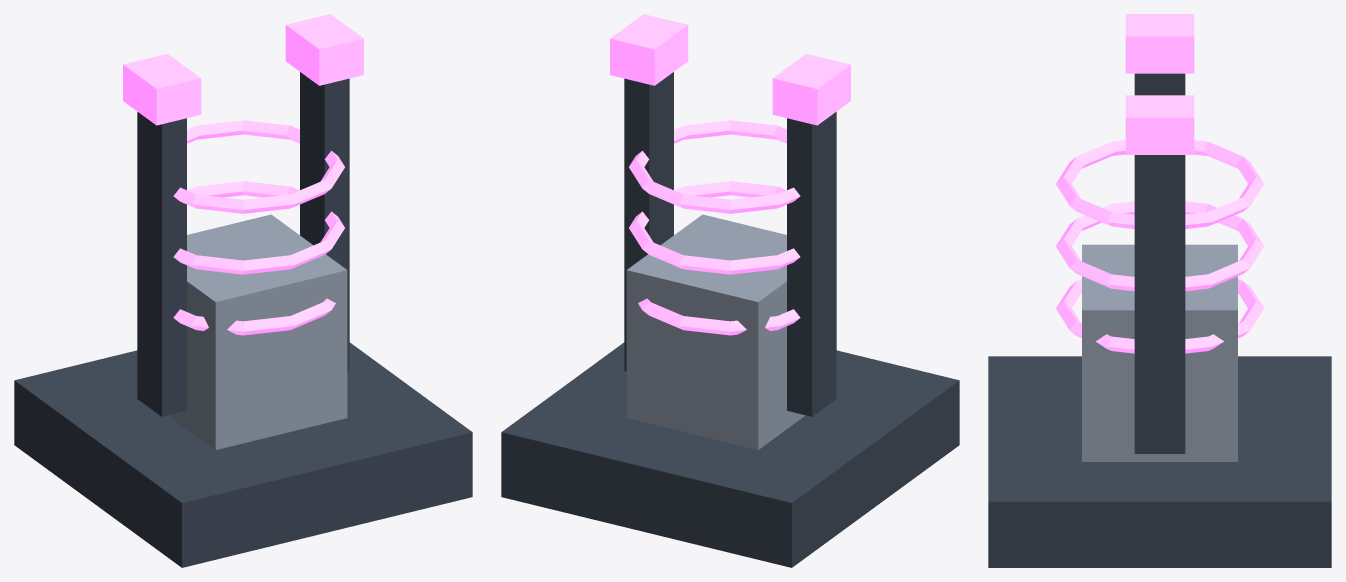
Rendered from arc-tower.glb.
The picture shows the model from 3 angles, left to right: view 1: azimuth 30°, elevation 25°; view 2: azimuth 150°, elevation 25°; view 3: azimuth 270°, elevation 25°; orthographic projection. The views are drawn at different scales.
Visible parts, largest first — view 1: Foundation, PowerCabinet, Pylon, Pylon.001, InductionRing.002, Emitter.001, Emitter, InductionRing.001, InductionRing; view 2: Foundation, PowerCabinet, Pylon, Pylon.001, InductionRing.002, Emitter.001, Emitter, InductionRing.001, InductionRing; view 3: Foundation, PowerCabinet, Pylon.001, InductionRing.002, InductionRing.001, Emitter, Emitter.001, InductionRing, Pylon.
Part boxes in pixels (x1,y1,x2,y2): Foundation: [14, 342, 472, 567]; PowerCabinet: [168, 214, 347, 449]; Pylon: [137, 112, 186, 416]; Pylon.001: [300, 72, 349, 371]; InductionRing.002: [173, 120, 344, 213]; Emitter.001: [285, 14, 363, 85]; Emitter: [123, 53, 201, 125]; InductionRing.001: [173, 181, 344, 274]; InductionRing: [173, 298, 335, 335]; Foundation: [501, 342, 959, 567]; PowerCabinet: [626, 214, 805, 449]; Pylon: [787, 112, 836, 416]; Pylon.001: [624, 72, 673, 371]; InductionRing.002: [629, 120, 800, 213]; Emitter.001: [610, 14, 688, 85]; Emitter: [772, 53, 850, 125]; InductionRing.001: [629, 181, 800, 274]; InductionRing: [638, 298, 800, 335]; Foundation: [988, 356, 1331, 567]; PowerCabinet: [1082, 244, 1237, 461]; Pylon.001: [1134, 155, 1185, 453]; InductionRing.002: [1056, 140, 1263, 228]; InductionRing.001: [1056, 201, 1263, 291]; Emitter: [1125, 14, 1194, 73]; Emitter.001: [1125, 95, 1194, 154]; InductionRing: [1056, 279, 1263, 353]; Pylon: [1134, 73, 1185, 95].
Size of the model in its own units: 1.5 by 2.07 by 1.5.
